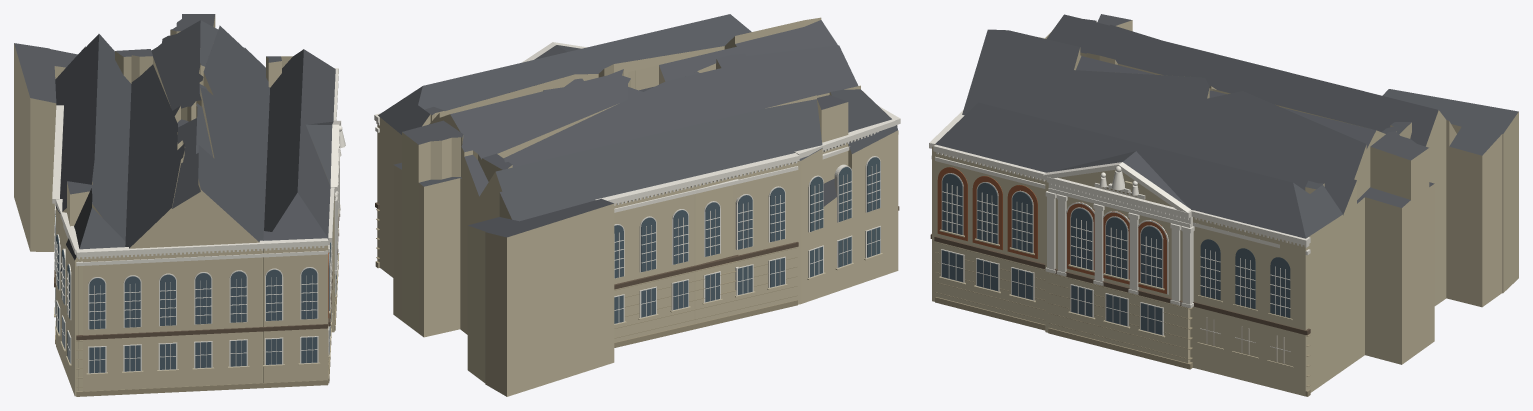
File: compagnietheater.glb
3 renders of one model, left to right at view 1: azimuth 30°, elevation 25°; view 2: azimuth 150°, elevation 25°; view 3: azimuth 270°, elevation 25°, orthographic. The views are drawn at different scales.
Visible parts, largest first — view 1: compagnietheater; view 2: compagnietheater; view 3: compagnietheater.
Boxes of the visible parts, bbox=[...] form: compagnietheater: bbox=[14, 14, 345, 396]; compagnietheater: bbox=[374, 14, 900, 396]; compagnietheater: bbox=[929, 14, 1518, 396].
Bounding box in the file's own units: 41.32 × 21.06 × 50.56.
